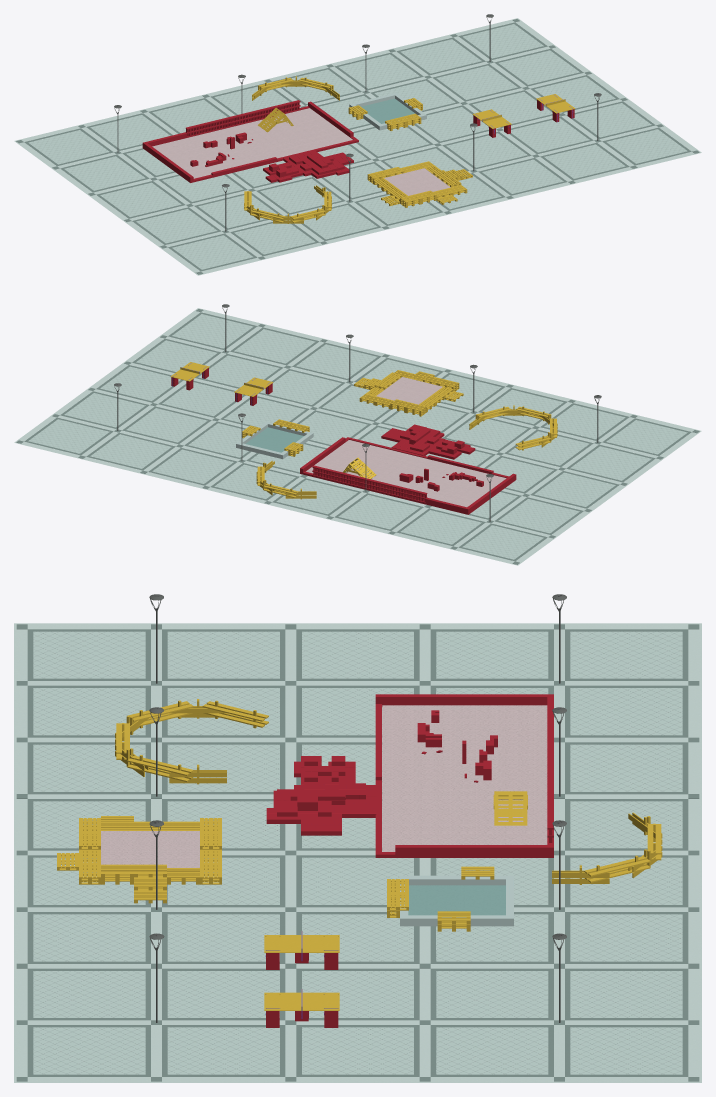
3 views of the same model, one above another, from view 1: azimuth 30°, elevation 25°; view 2: azimuth 150°, elevation 25°; view 3: azimuth 270°, elevation 25° (orthographic). The views are drawn at different scales.
Visible parts, largest first — view 1: square 1 component, object 6, barrière sécurité chantier.dwg#2, object 2, object 1, object 4; view 2: square 1 component, object 6, barrière sécurité chantier.dwg#2, object 2, object 1, object 4; view 3: square 1 component, object 6, object 2, barrière sécurité chantier.dwg#2, object 1, object 4.
Boxes of the visible parts, x1=… form: square 1 component: x1=16, y1=19, x2=699, y2=274; object 6: x1=14, y1=18, x2=701, y2=275; barrière sécurité chantier.dwg#2: x1=114, y1=14, x2=601, y2=231; object 2: x1=152, y1=108, x2=450, y2=195; object 1: x1=244, y1=76, x2=575, y2=223; object 4: x1=361, y1=98, x2=414, y2=123; square 1 component: x1=16, y1=309, x2=699, y2=564; object 6: x1=14, y1=308, x2=701, y2=565; barrière sécurité chantier.dwg#2: x1=114, y1=304, x2=601, y2=521; object 2: x1=306, y1=377, x2=506, y2=507; object 1: x1=170, y1=362, x2=557, y2=499; object 4: x1=245, y1=427, x2=303, y2=452; square 1 component: x1=16, y1=624, x2=699, y2=1081; object 6: x1=14, y1=623, x2=701, y2=1082; object 2: x1=101, y1=705, x2=547, y2=867; barrière sécurité chantier.dwg#2: x1=149, y1=594, x2=566, y2=1027; object 1: x1=57, y1=699, x2=662, y2=1010; object 4: x1=408, y1=885, x2=505, y2=915.
Bounding box in the file's own units: 1.8 × 0.172 × 1.14.
8 materials, 8 textured.
